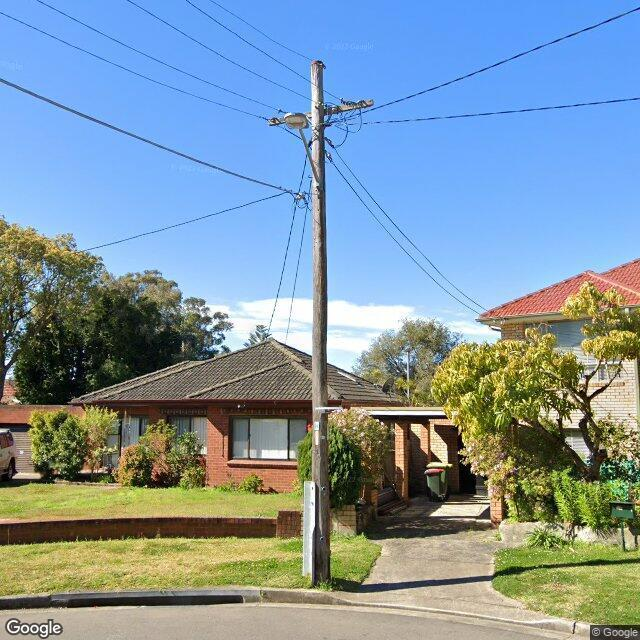crossarm: (267, 98, 377, 128)
streetlight: (282, 113, 321, 185)
timber-pole: (311, 61, 332, 582)
